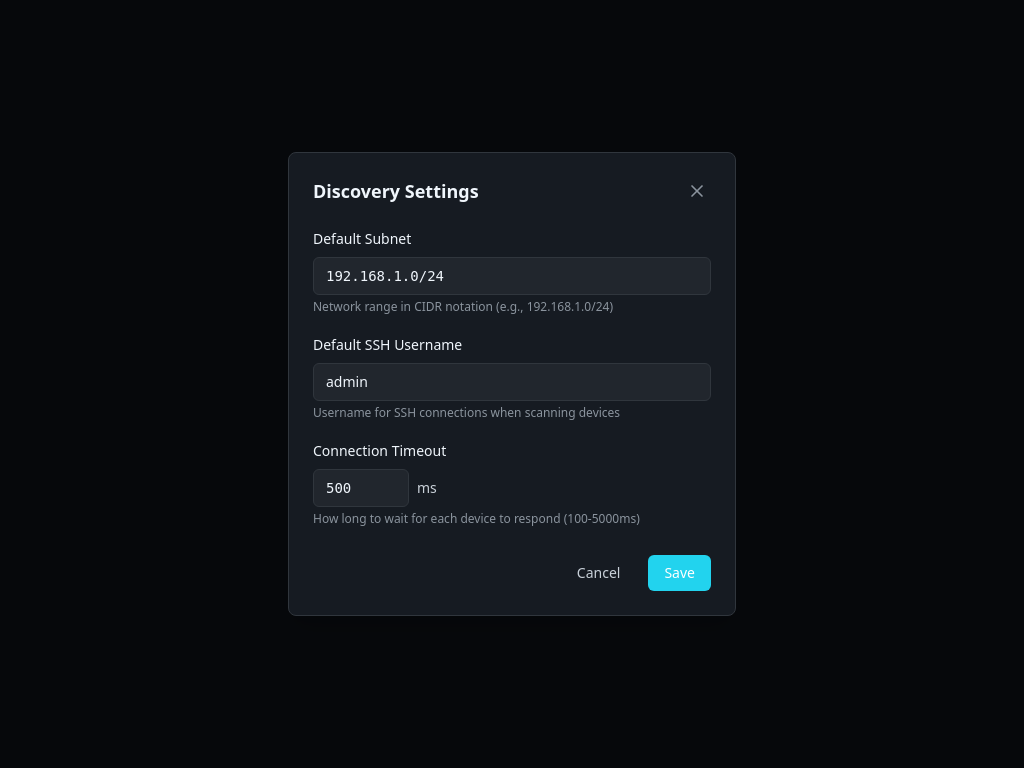
DiscoverySettingsModal › saving settings › shows success message after save
Type "10.0.0.0/24" into the field with test id "subnet-input" at (512, 276), box [313,257,711,295]
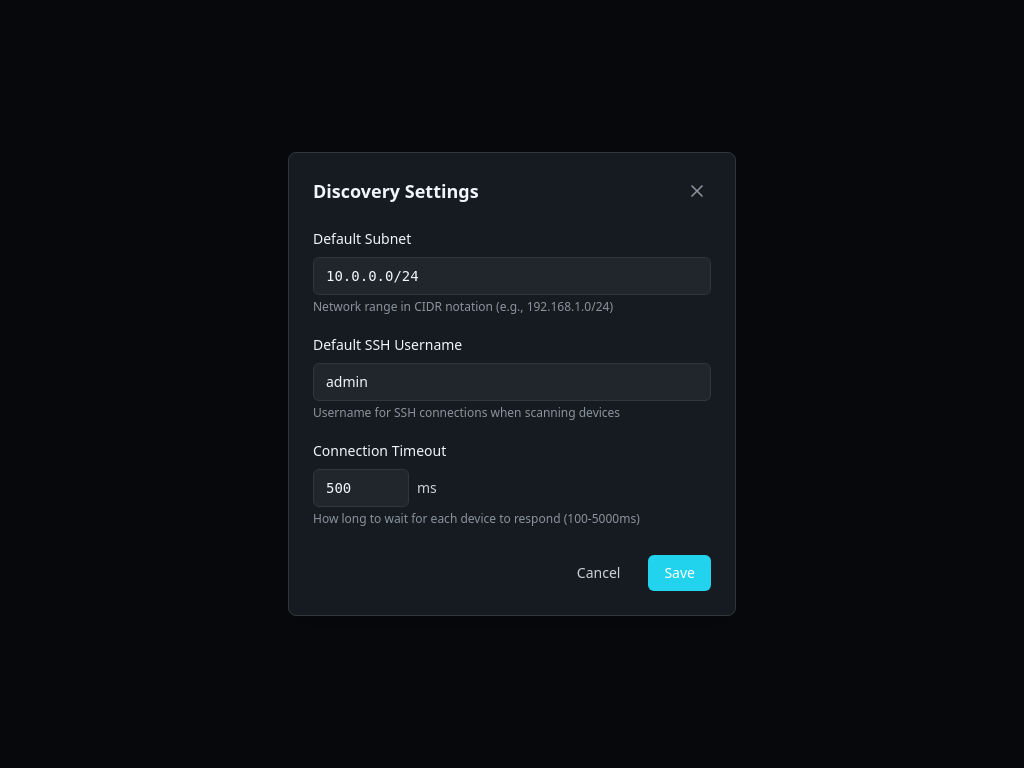
Click the button with test id "save-settings-button" at (680, 573), box [648,555,711,591]
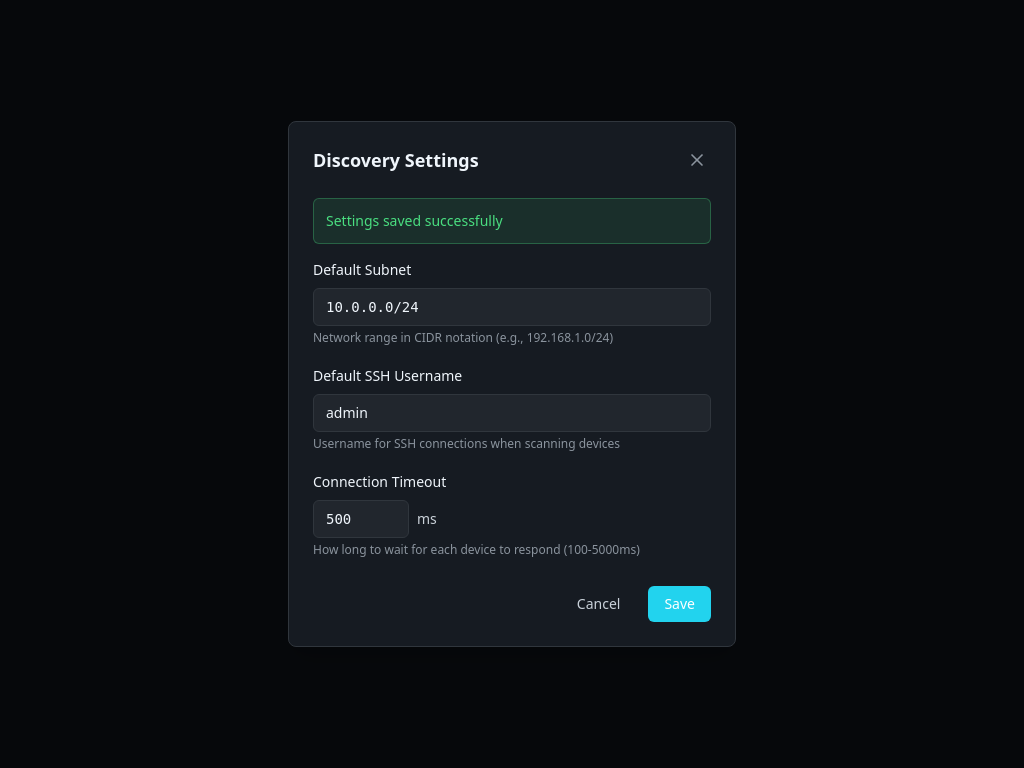
Check: the text "Settings saved successfully" is shown, box [326,211,503,230]
